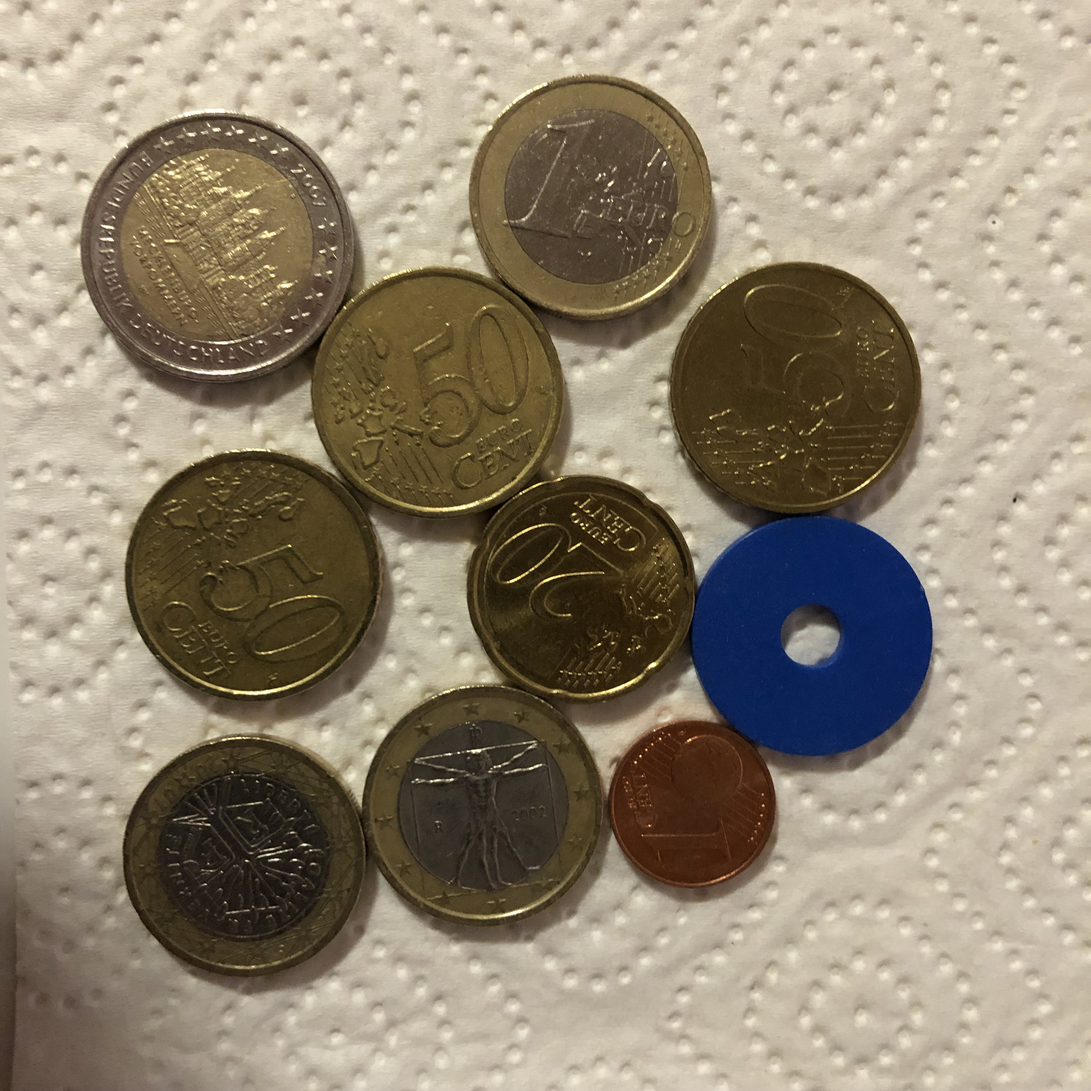1 cent: (608, 729, 781, 890)
1 euro: (459, 71, 726, 327), (118, 730, 370, 978), (363, 684, 605, 926)
2 euro: (79, 106, 360, 389)
20 cent: (467, 472, 696, 702)
50 cent: (123, 447, 389, 704), (669, 263, 929, 517), (312, 265, 563, 515)
